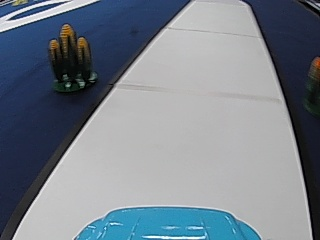corn: (47, 21, 97, 94)
